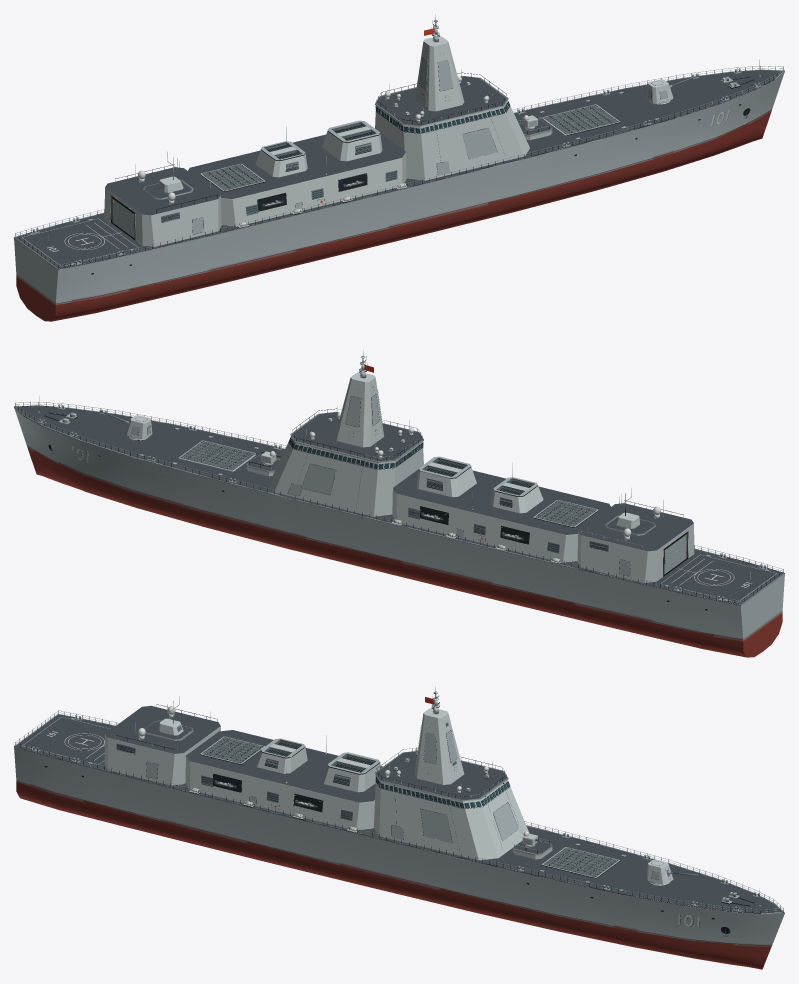
Rendered from shipModelData-nanchang.glb.
3 views of the same model, one above another, from view 1: azimuth 30°, elevation 25°; view 2: azimuth 150°, elevation 25°; view 3: azimuth 330°, elevation 25° (orthographic).
Visible parts, largest first — view 1: 船体 | 连续剖面与尖艏, 甲板舷缘细边 | 上层建筑浅灰, 中央上层建筑 | 内倾侧壁, 主甲板 | 尖艏至直升机甲板, 舰桥 | 大型外观面板 | 面板冷灰, 舰桥顶部檐口, 舰桥 | 门把手 | 金属构件, 前甲板舱盖 | 单元盖板 | 舱盖灰, 船侧 | 狭小缆孔 | 深色凹槽, 舰艏 | 锚链 | 设备深灰, 舰桥 | 连续窗带 | 舰桥深蓝窗, 直升机甲板 | 101舰号; view 2: 船体 | 连续剖面与尖艏, 甲板舷缘细边 | 上层建筑浅灰, 中央上层建筑 | 内倾侧壁, 主甲板 | 尖艏至直升机甲板, 舰桥 | 大型外观面板 | 面板冷灰, 舰桥顶部檐口, 舰桥 | 门把手 | 金属构件, 前甲板舱盖 | 单元盖板 | 舱盖灰, 船侧 | 狭小缆孔 | 深色凹槽, 舰艏 | 锚链 | 设备深灰, 舰桥 | 连续窗带 | 舰桥深蓝窗; view 3: 船体 | 连续剖面与尖艏, 甲板舷缘细边 | 上层建筑浅灰, 中央上层建筑 | 内倾侧壁, 主甲板 | 尖艏至直升机甲板, 舰桥 | 大型外观面板 | 面板冷灰, 舰桥顶部檐口, 舰桥 | 门把手 | 金属构件, 前甲板舱盖 | 单元盖板 | 舱盖灰, 船侧 | 狭小缆孔 | 深色凹槽, 舰艏 | 锚链 | 设备深灰, 舰桥 | 连续窗带 | 舰桥深蓝窗.
Boxes of the visible parts, x1,y1,x2,y2 form: 船体 | 连续剖面与尖艏: (14,72,784,321); 甲板舷缘细边 | 上层建筑浅灰: (14,20,784,269); 中央上层建筑 | 内倾侧壁: (104,133,406,246); 主甲板 | 尖艏至直升机甲板: (14,69,784,270); 舰桥 | 大型外观面板 | 面板冷灰: (30,54,740,265); 舰桥顶部檐口: (143,75,552,199); 舰桥 | 门把手 | 金属构件: (16,14,783,266); 前甲板舱盖 | 单元盖板 | 舱盖灰: (202,105,618,190); 船侧 | 狭小缆孔 | 深色凹槽: (50,76,771,303); 舰艏 | 锚链 | 设备深灰: (33,69,759,263); 舰桥 | 连续窗带 | 舰桥深蓝窗: (277,102,509,200); 直升机甲板 | 101舰号: (22,109,729,266); 船体 | 连续剖面与尖艏: (14,408,784,657); 甲板舷缘细边 | 上层建筑浅灰: (14,356,784,605); 中央上层建筑 | 内倾侧壁: (392,469,694,582); 主甲板 | 尖艏至直升机甲板: (14,405,784,606); 舰桥 | 大型外观面板 | 面板冷灰: (58,390,768,601); 舰桥顶部檐口: (246,411,655,535); 舰桥 | 门把手 | 金属构件: (15,350,782,602); 前甲板舱盖 | 单元盖板 | 舱盖灰: (180,441,596,526); 船侧 | 狭小缆孔 | 深色凹槽: (27,412,748,639); 舰艏 | 锚链 | 设备深灰: (39,405,765,599); 舰桥 | 连续窗带 | 舰桥深蓝窗: (289,438,518,535); 船体 | 连续剖面与尖艏: (14,747,784,969); 甲板舷缘细边 | 上层建筑浅灰: (14,691,784,913); 中央上层建筑 | 内倾侧壁: (104,705,382,830); 主甲板 | 尖艏至直升机甲板: (14,714,784,914); 舰桥 | 大型外观面板 | 面板冷灰: (27,717,740,904); 舰桥顶部檐口: (145,720,552,859); 舰桥 | 门把手 | 金属构件: (16,686,783,911); 前甲板舱盖 | 单元盖板 | 舱盖灰: (202,737,618,876); 船侧 | 狭小缆孔 | 深色凹槽: (16,728,771,945); 舰艏 | 锚链 | 设备深灰: (33,716,759,936); 舰桥 | 连续窗带 | 舰桥深蓝窗: (229,776,509,808).
Bounding box in the file's own units: 180 × 46.8 × 21.4.
18 materials, 7 textured.
